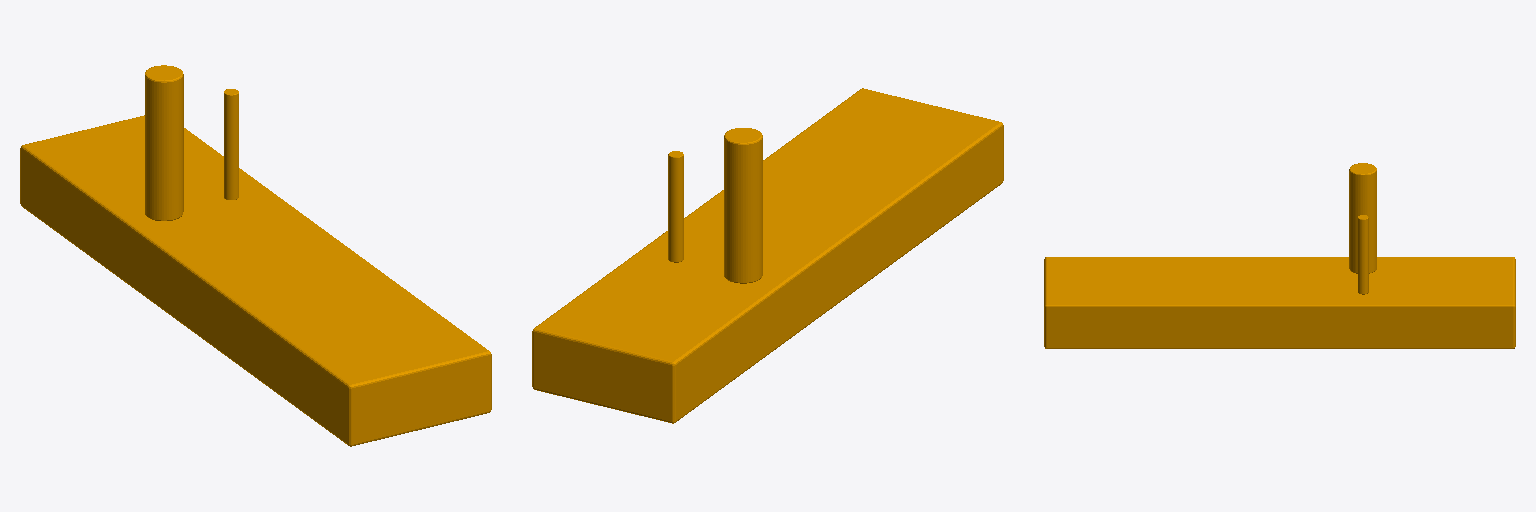
robot.urdf — tube_target_fixture:
<?xml version="1.0" ?>
<robot name="tube_target_fixture">
  <link name="base_link">
    <inertial>
      <origin xyz="0 0 0.0575" rpy="0 0 0"/>
      <mass value="0.519824335"/>
      <inertia ixx="0.00558053083" ixy="0" ixz="0" iyy="0.000885867304" iyz="0" izz="0.00532061866"/>
    </inertial>
    <visual name="visual">
      <origin xyz="0 0 0" rpy="0 0 0"/>
      <geometry>
        <mesh filename="meshes/visual.obj" scale="1 1 1"/>
      </geometry>
    </visual>
    <collision name="plank">
      <origin xyz="0 0 0" rpy="0 0 0"/>
      <geometry>
        <mesh filename="meshes/collision/plank.obj" scale="1 1 1"/>
      </geometry>
    </collision>
    <collision name="large_peg">
      <origin xyz="0 0 0" rpy="0 0 0"/>
      <geometry>
        <mesh filename="meshes/collision/large_peg.obj" scale="1 1 1"/>
      </geometry>
    </collision>
    <collision name="small_peg">
      <origin xyz="0 0 0" rpy="0 0 0"/>
      <geometry>
        <mesh filename="meshes/collision/small_peg.obj" scale="1 1 1"/>
      </geometry>
    </collision>
  </link>
</robot>

--- What the picture shows (computed from the rendered views, not written in the file) ---
Views: 3 orthographic renders of the robot side by side, from view 1: azimuth 30°, elevation 25°; view 2: azimuth 150°, elevation 25°; view 3: azimuth 270°, elevation 25°.
Model tube_target_fixture with 1 links and 0 joints (none), rooted at base_link, posed every joint at zero.
Links seen in each view (by area): view 1: base_link; view 2: base_link; view 3: base_link.
Boxes of the visible links, left/top/right/bottom form: base_link: left=20, top=65, right=491, bottom=446; base_link: left=532, top=88, right=1003, bottom=423; base_link: left=1044, top=163, right=1515, bottom=348.
Bounding box of the posed robot: 0.085 × 0.34 × 0.115 m (x, y, z).
Meshes: 1 distinct files referenced, 1 mesh visuals loaded (1 OBJ).
